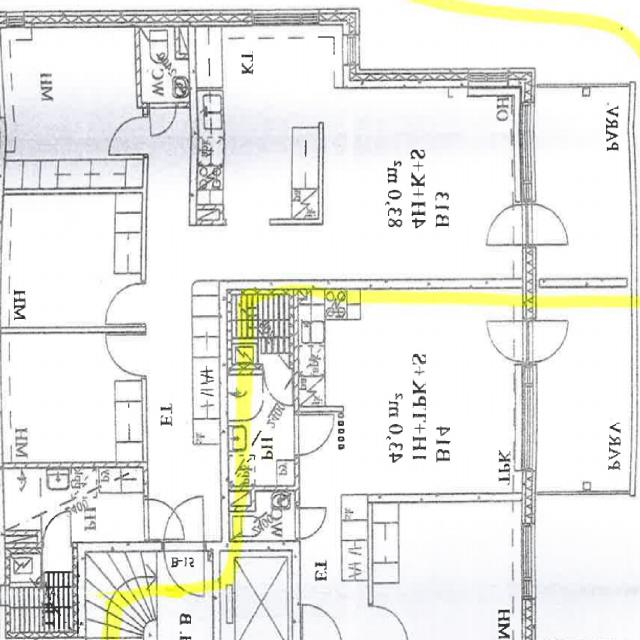door: (164, 542, 204, 598), (164, 496, 204, 550), (520, 204, 571, 245), (485, 204, 536, 244), (142, 500, 184, 540), (107, 283, 148, 323), (107, 336, 148, 376), (110, 117, 148, 154), (44, 512, 71, 548), (150, 102, 176, 139)
